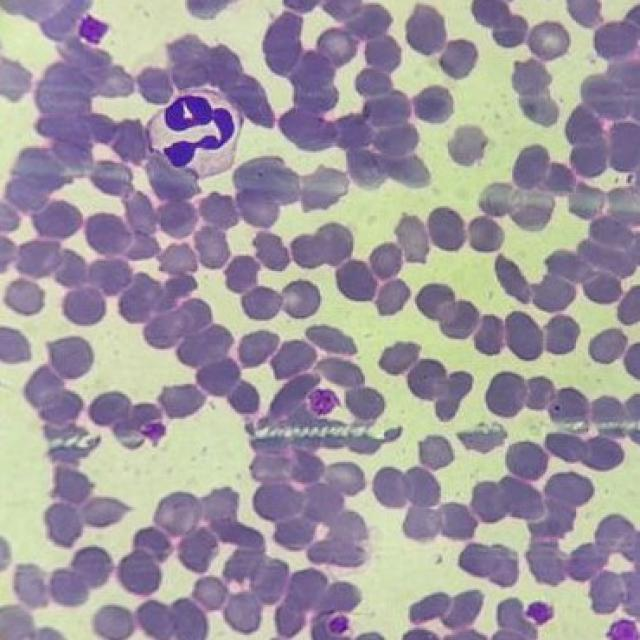Neutrofilo: (142, 83, 245, 180)
